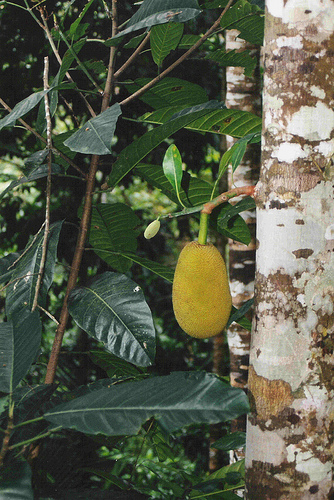jackfruit: (172, 237, 233, 340)
